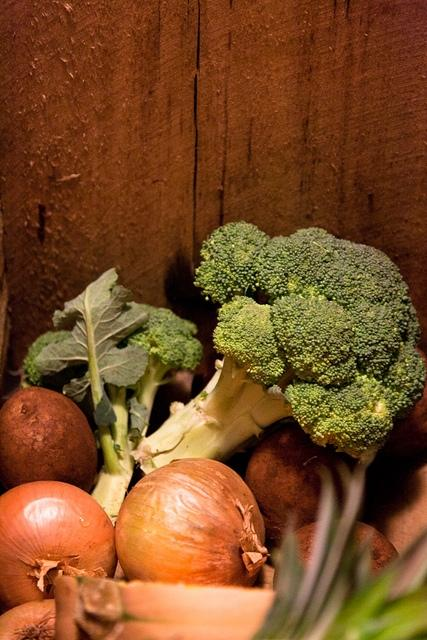broccoli: (130, 220, 427, 473), (22, 268, 202, 526)
onion: (115, 458, 270, 586), (1, 480, 118, 612), (1, 598, 56, 640)
potato: (246, 432, 349, 546), (0, 387, 97, 493), (294, 519, 400, 577)
